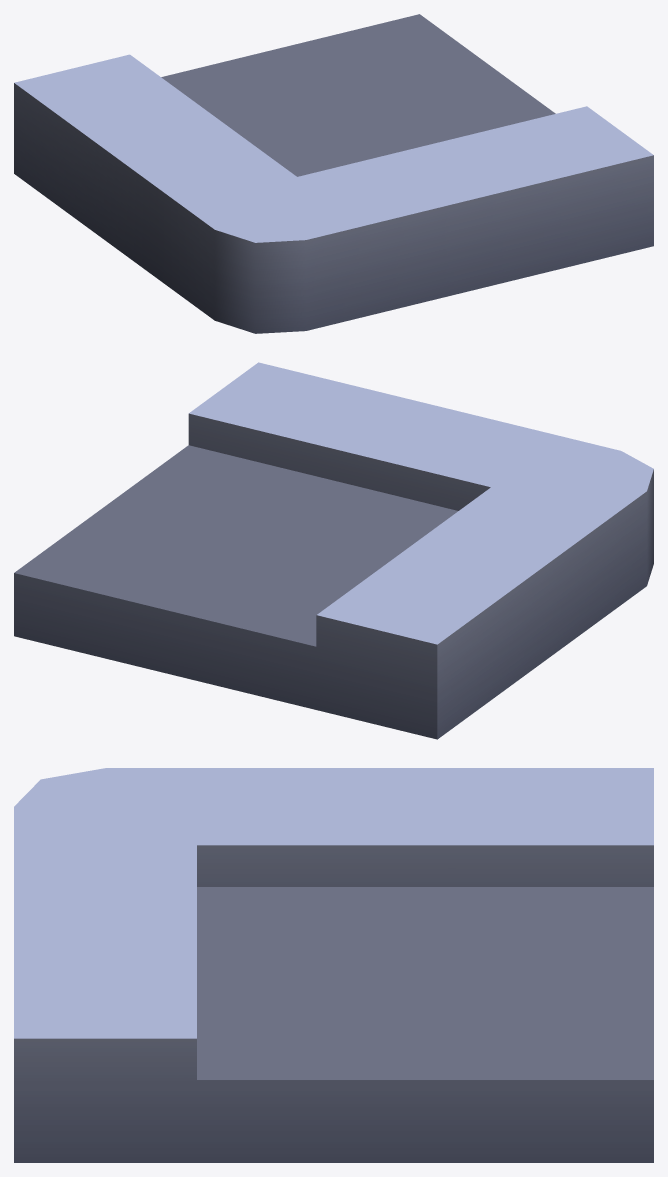
File: balcony-floor-corner.glb
The picture shows the model from 3 angles, top to bottom: view 1: azimuth 30°, elevation 25°; view 2: azimuth 150°, elevation 25°; view 3: azimuth 270°, elevation 25°; orthographic projection. The views are drawn at different scales.
Visible parts, largest first — view 1: balcony-floor-corner; view 2: balcony-floor-corner; view 3: balcony-floor-corner.
Part boxes in pixels (x1,y1,x2,y2): balcony-floor-corner: [14, 14, 653, 333]; balcony-floor-corner: [14, 362, 653, 739]; balcony-floor-corner: [14, 768, 653, 1162].
Bounding box in the file's own units: 0.7 × 0.15 × 0.7.
1 material, 1 textured.
